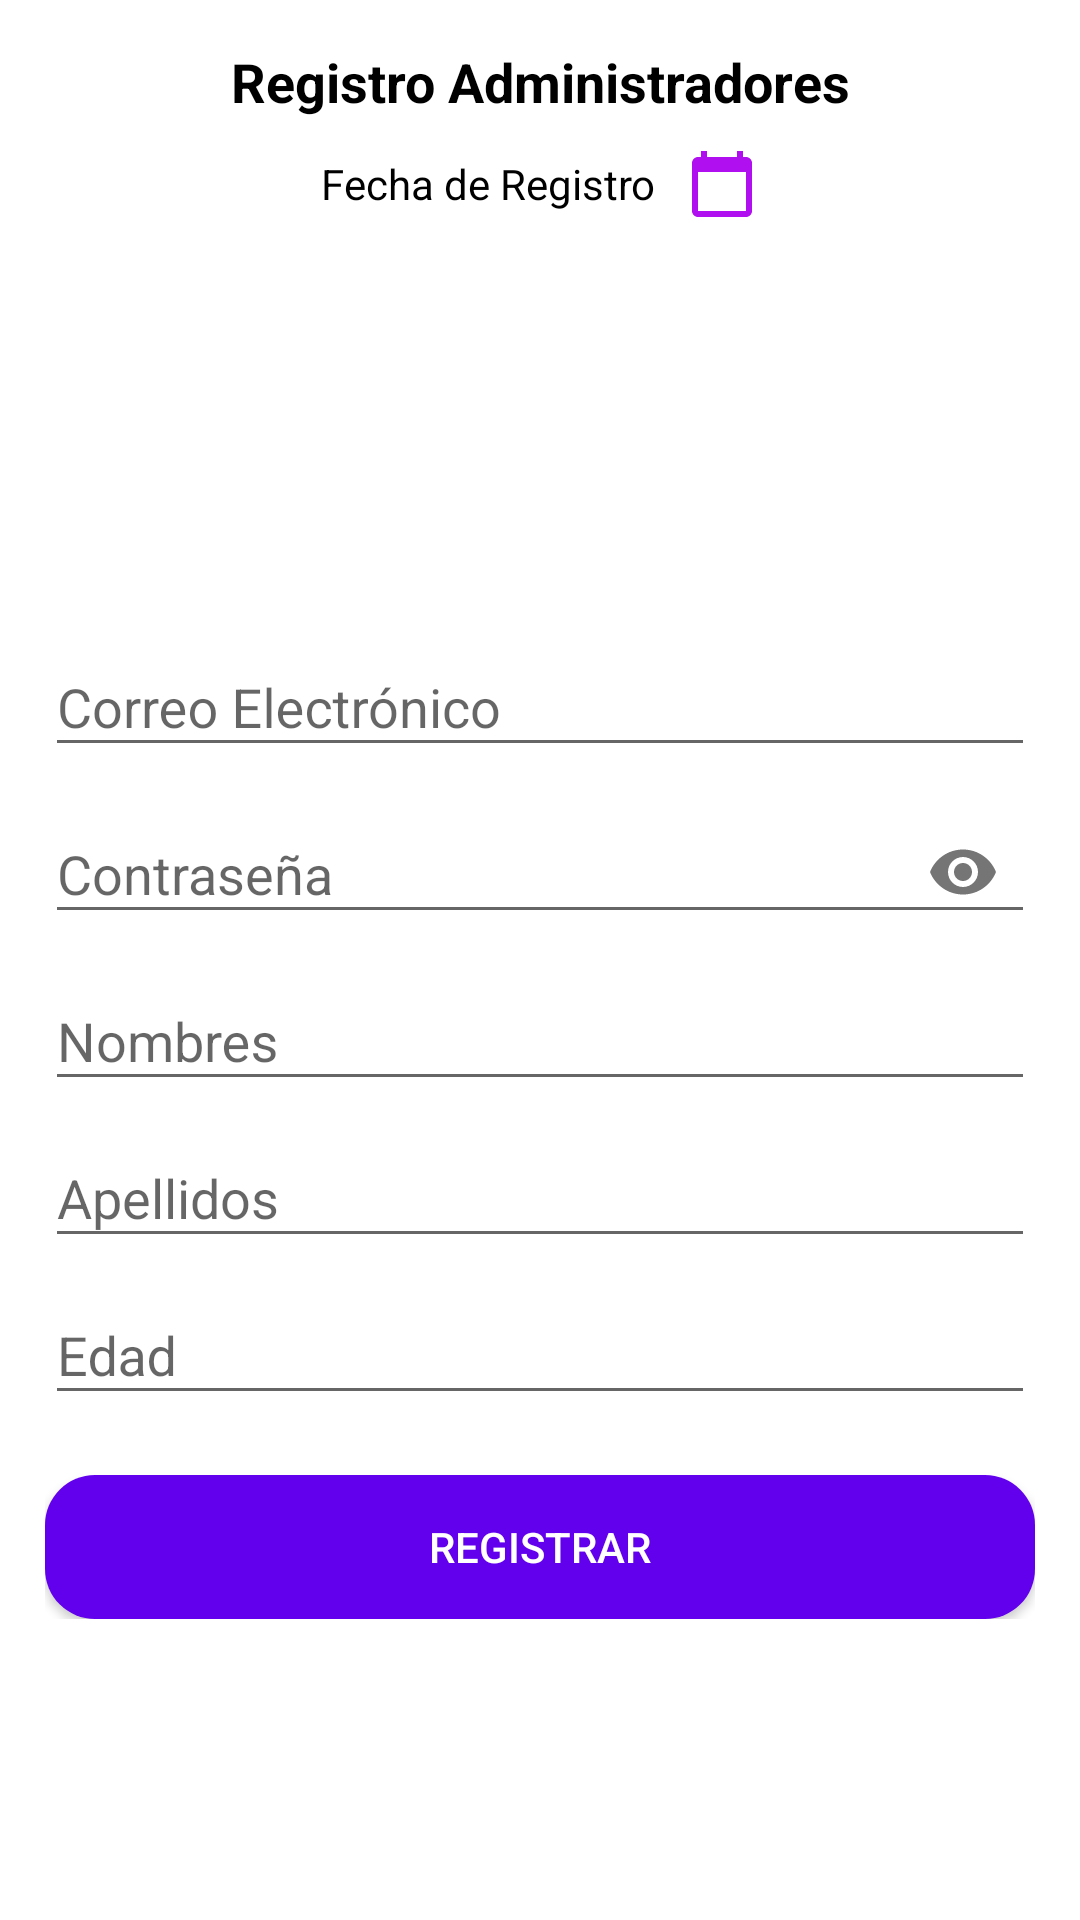

Where to tap for icons on this 1080*1920 app screen, as point (x, y):
calendar: point (722, 184)
